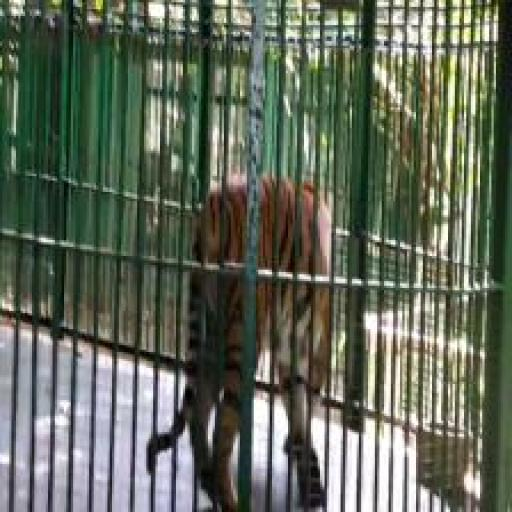Tiger: (144, 137, 357, 511)
